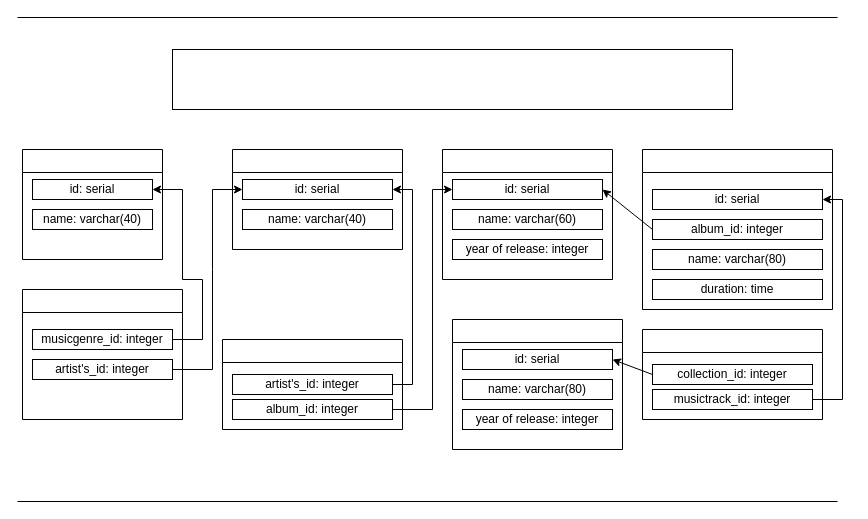
The diagram is 868 pixels wide and 519 high, and some of its shapes have lost their labels. The box of each missing label's shape, as (x1, y1, x2, y2) in pixels:
Album: (442, 148, 612, 280)
AlbumArtist's: (222, 338, 402, 430)
Artist 's: (232, 148, 402, 250)
Collection: (452, 318, 622, 450)
CollectionMusicTrack: (642, 328, 822, 420)
GenreArtist's: (22, 288, 182, 420)
MusicGenre: (22, 148, 162, 260)
MusicTrack: (642, 148, 832, 310)
Схема музыкального сайта: (172, 48, 732, 110)
